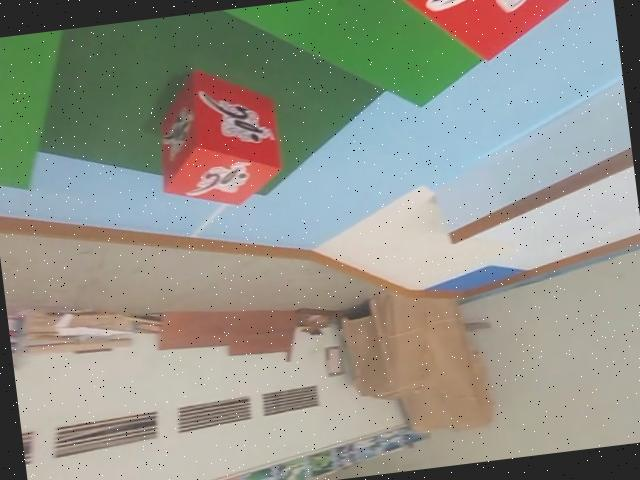R1: (147, 67, 290, 216), (379, 0, 619, 78)
